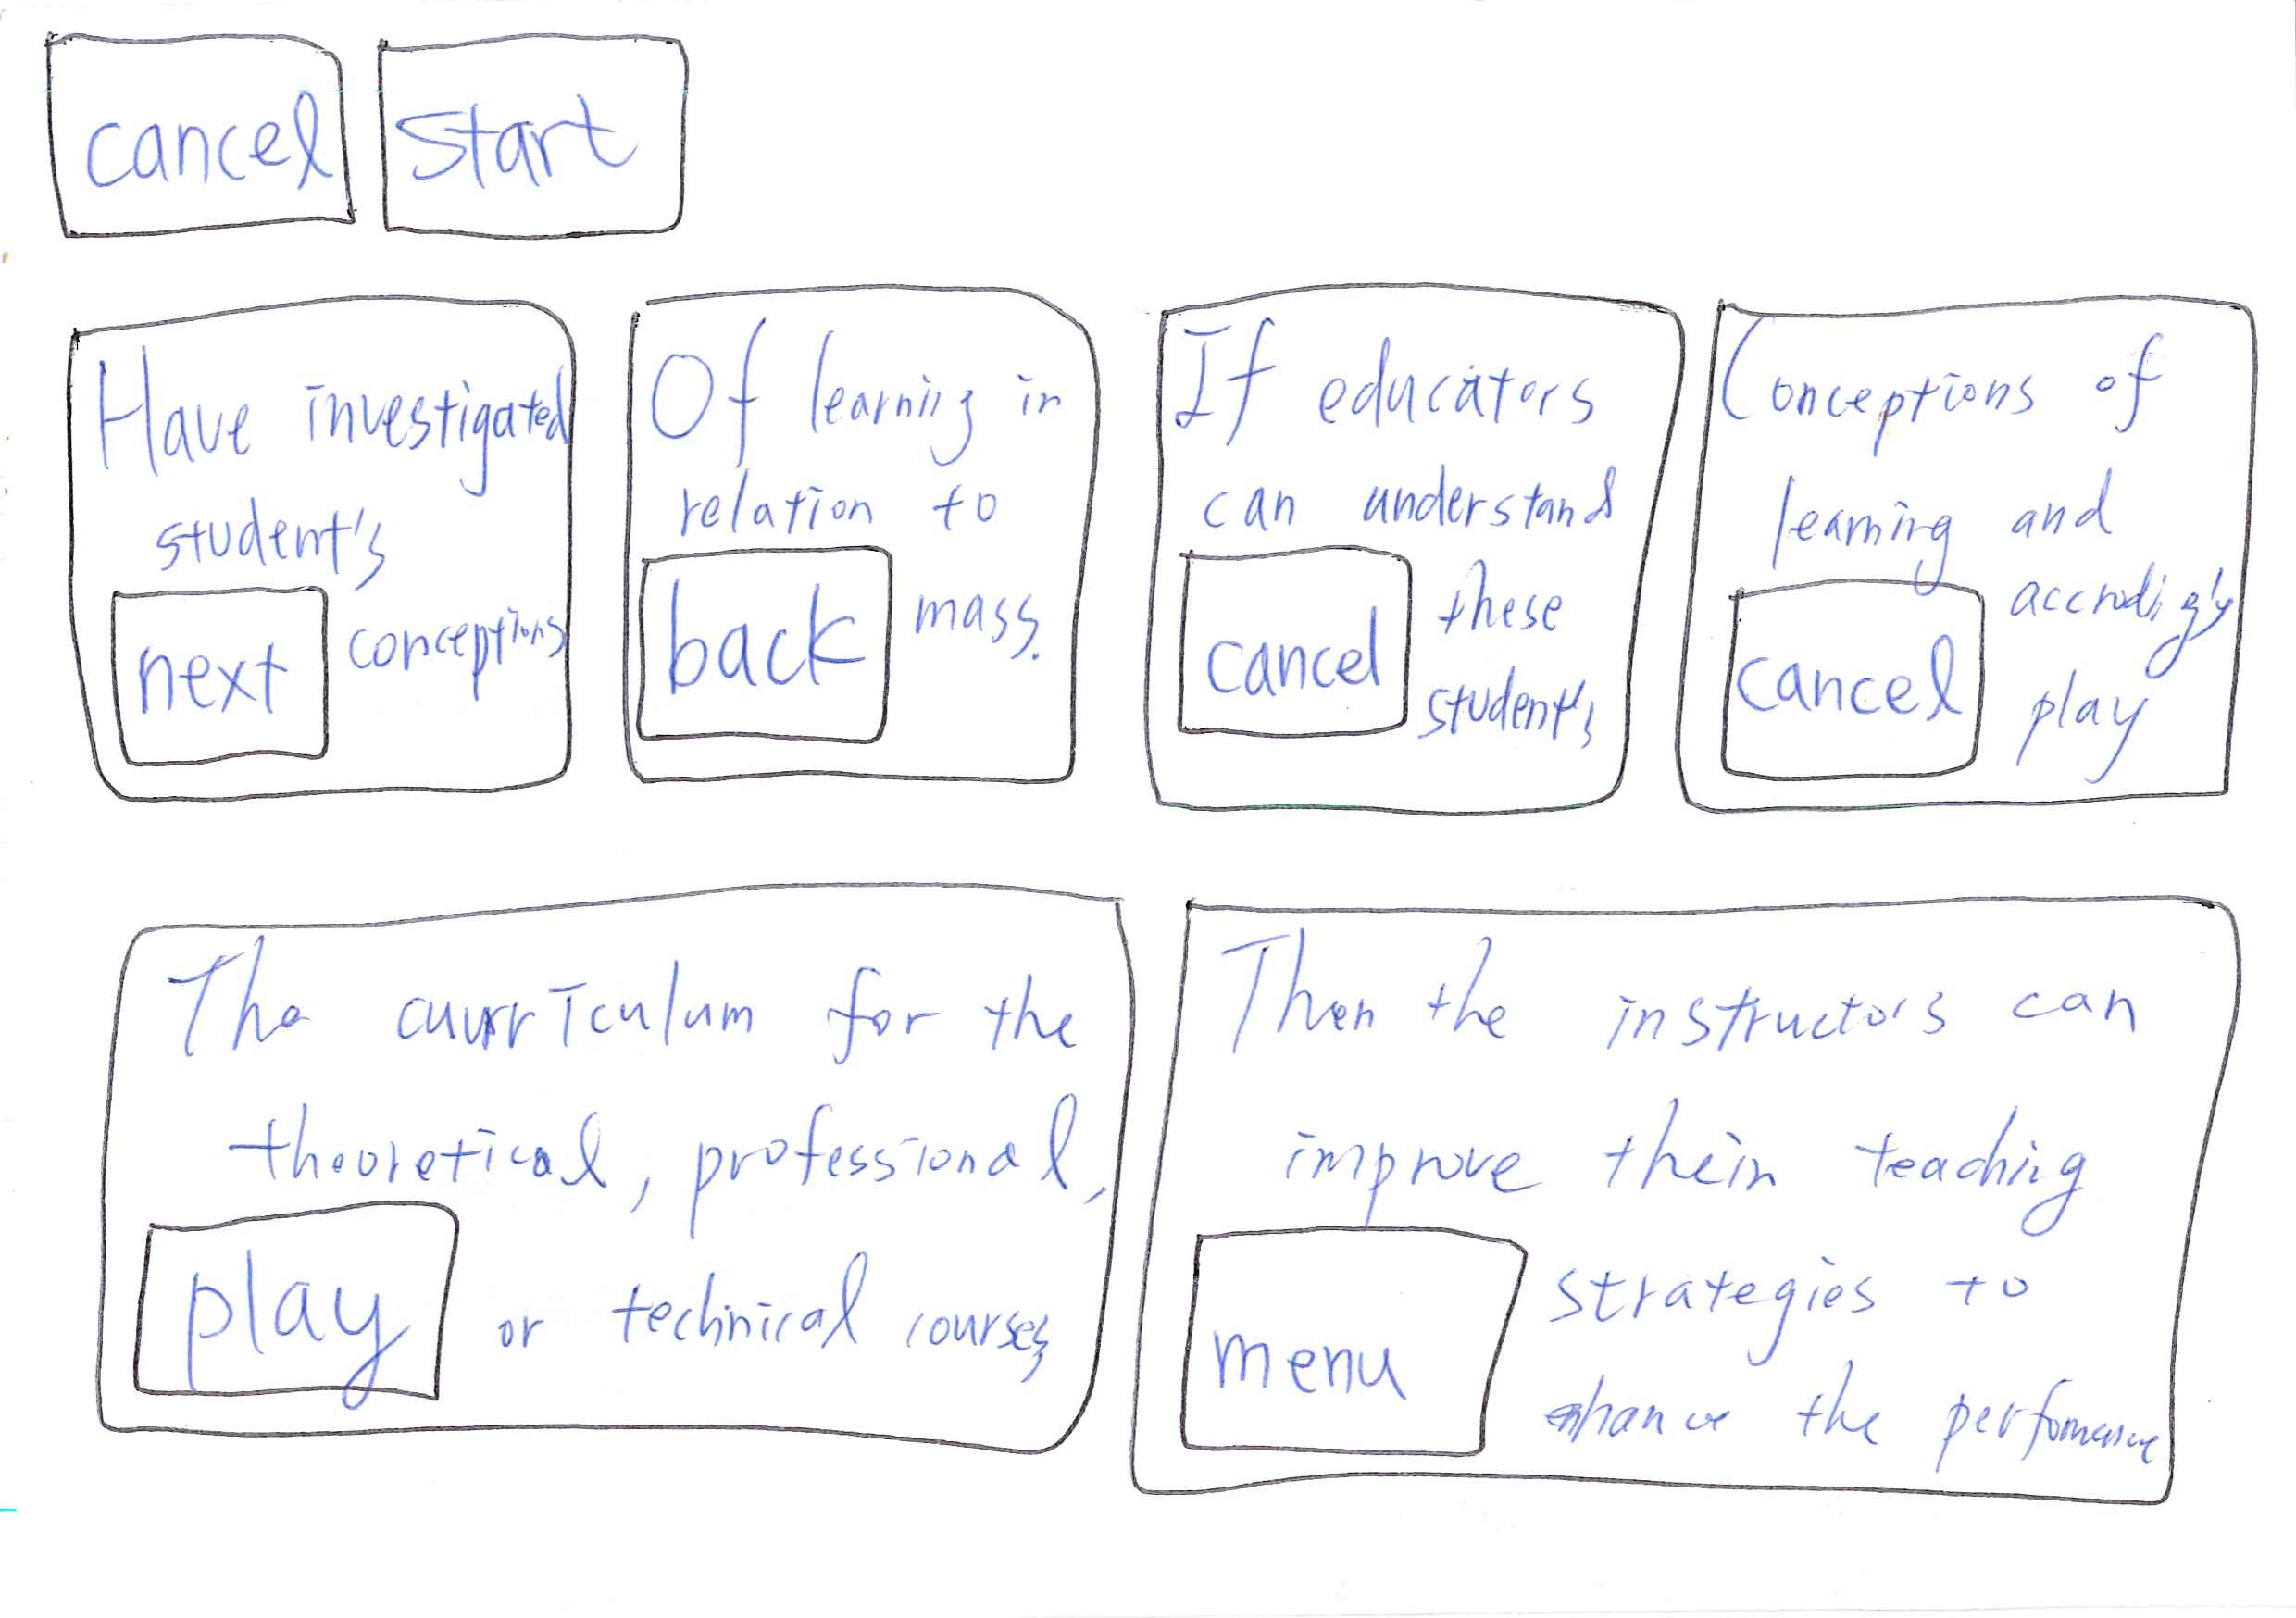back: (625, 534, 900, 756)
cancel: (21, 2, 357, 263), (1701, 569, 2005, 786), (1165, 534, 1427, 755)
double: (1121, 856, 2278, 1536), (28, 872, 1156, 1529)
menu: (1156, 1219, 1550, 1471)
next: (91, 567, 349, 770)
play: (116, 1184, 473, 1425)
quadruple: (1674, 254, 2284, 858), (1123, 245, 1695, 853), (58, 271, 595, 848), (606, 261, 1123, 828)
row: (19, 860, 2296, 1534), (19, 278, 2296, 844), (7, 7, 2284, 261)
small-title: (1207, 919, 2159, 1080), (165, 937, 1079, 1061), (641, 317, 1065, 466), (1180, 315, 1637, 447), (89, 350, 539, 462), (1723, 338, 2168, 426)
start: (363, 5, 713, 266)
text: (1574, 1235, 2145, 1460), (1238, 1098, 2116, 1224), (483, 1243, 1082, 1392), (222, 1098, 1054, 1192), (1417, 461, 1601, 763), (2032, 473, 2214, 762), (340, 508, 555, 706), (893, 478, 1056, 676), (128, 482, 427, 574), (1187, 466, 1595, 532), (648, 464, 1025, 536), (1755, 461, 1961, 566)
